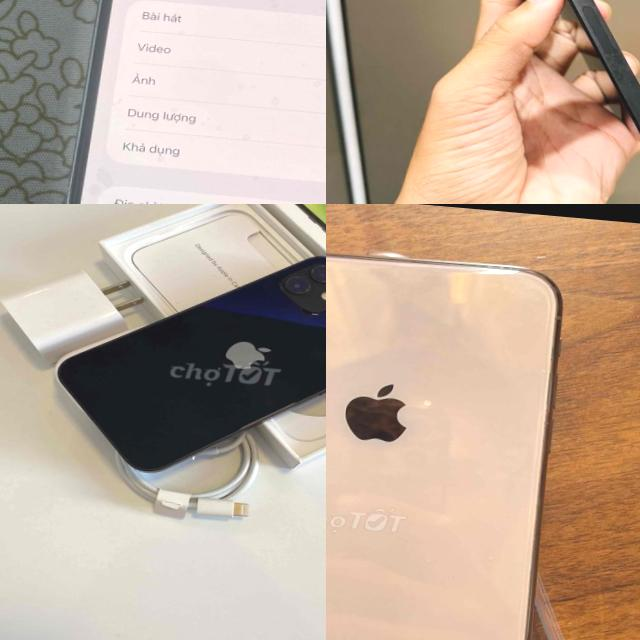gen_12_13: (41, 234, 326, 495)
gen_14: (46, 0, 326, 204), (437, 0, 640, 159)
gen_x_xs: (326, 233, 624, 640)
